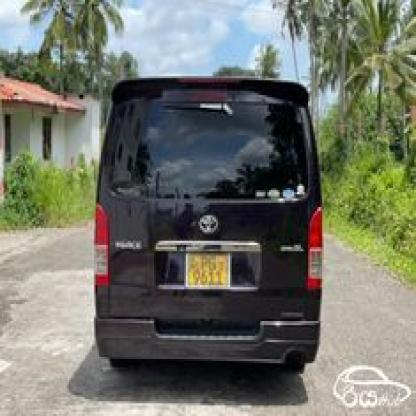number plate: (185, 251, 229, 291)
van back: (90, 70, 325, 380)
